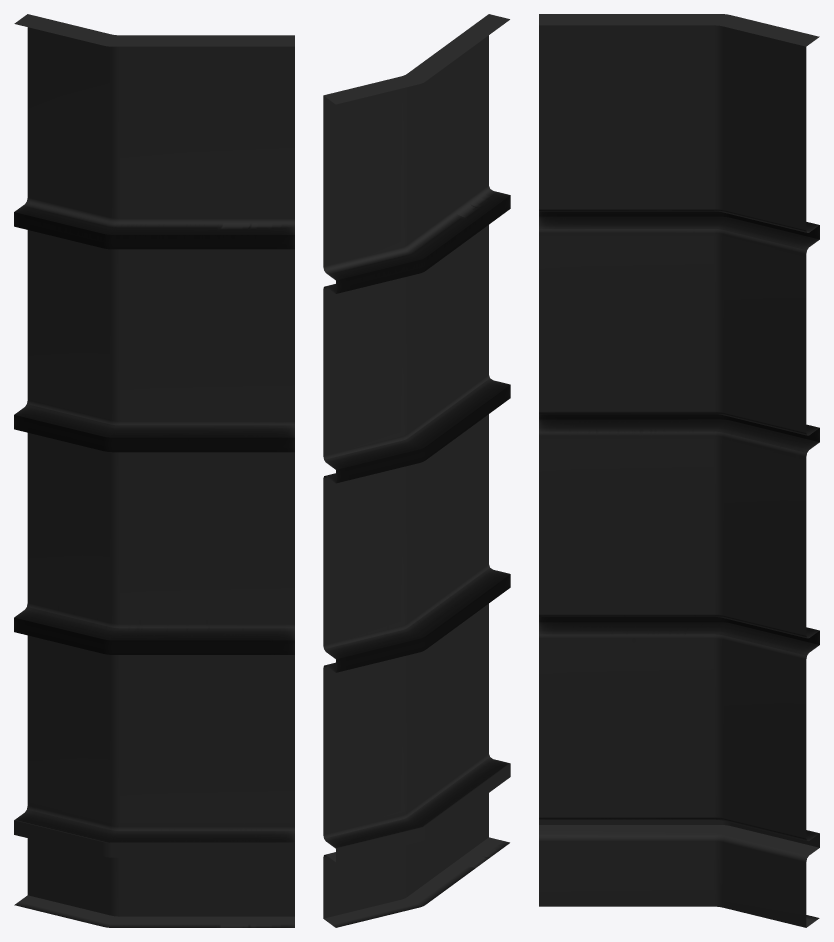
Rendered from XOB_RIN_SW.fbx.
3 views of the same model, side by side, from view 1: azimuth 90°, elevation 25°; view 2: azimuth 150°, elevation 25°; view 3: azimuth 270°, elevation 25° (orthographic). The views are drawn at different scales.
Visible parts, largest first — view 1: XOB_RIN_SW; view 2: XOB_RIN_SW; view 3: XOB_RIN_SW.
Boxes of the visible parts, x1,y1,x2,y2 form: XOB_RIN_SW: (14,14,294,927); XOB_RIN_SW: (323,14,510,927); XOB_RIN_SW: (539,14,819,927).
Size of the model in its own units: 0.3582 by 4.5 by 1.3.
